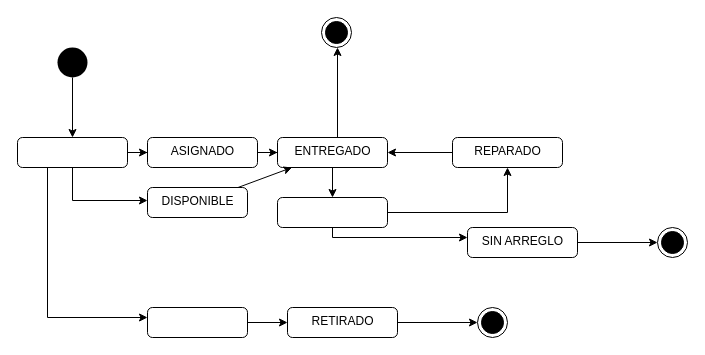
This 705x355 diagram has some shape labels left out. The shapes that lost their labels are listed below. From the top down, each one's centre as x and y in pixels, then its label:
point (72, 152): POR FABRICAR
point (332, 212): EN REPARACION
point (197, 322): DEFECTUOSO
